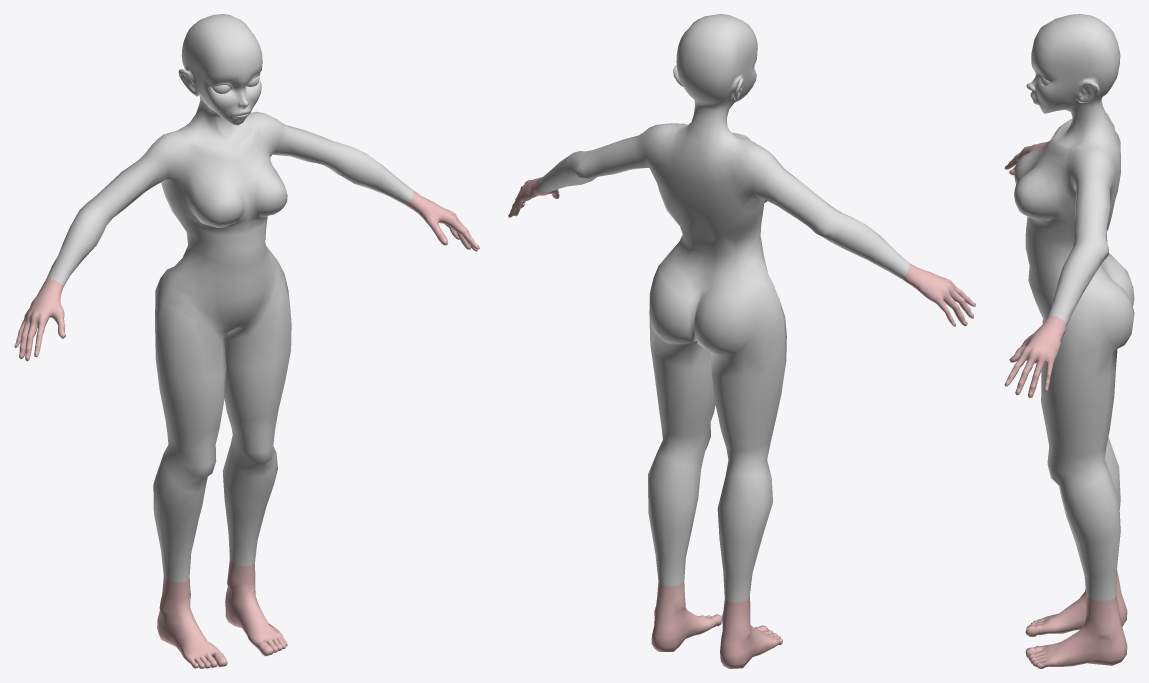
File: Anime_Female_A.glb
3 renders of one model, left to right at view 1: azimuth 30°, elevation 25°; view 2: azimuth 150°, elevation 25°; view 3: azimuth 270°, elevation 25°, orthographic.
Visible parts, largest first — view 1: Anime_Female_A; view 2: Anime_Female_A; view 3: Anime_Female_A.
Part boxes in pixels (x1,y1,x2,y2): Anime_Female_A: (14,14,479,668); Anime_Female_A: (508,14,975,668); Anime_Female_A: (1004,14,1134,668).
Size of the model in its own units: 6.87 by 9.08 by 1.7.
